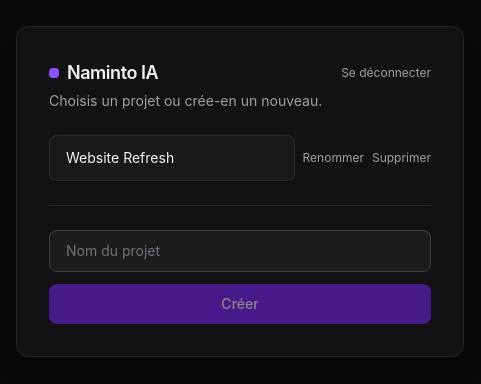
Test: ProjectPicker › delete › removes the project from the list once confirmed
The image size is (481, 384).
Check: the button "Website Refresh" is shown, box x1=49 y1=134 x2=295 y2=180
Click the button "Supprimer": (401, 158) x1=372 y1=150 x2=431 y2=166
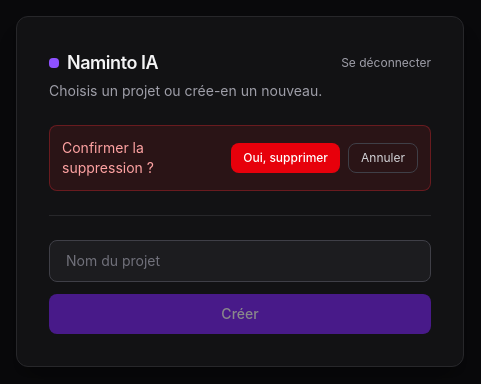
Click the button "Oui, supprimer": (286, 158) x1=231 y1=142 x2=340 y2=172
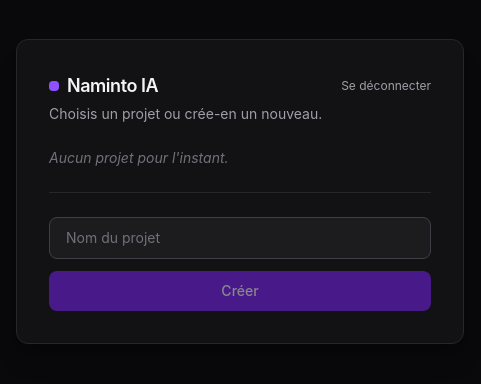
Check: the text "Aucun projet pour l'instant." is shown, box x1=49 y1=148 x2=228 y2=166
